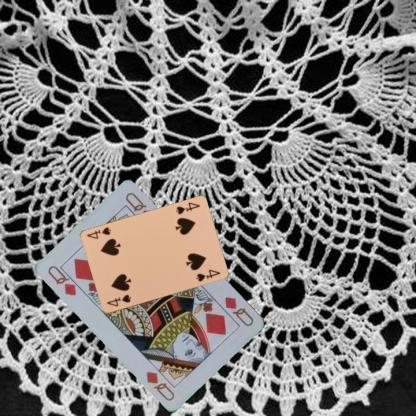4s: (104, 292, 132, 308), (173, 200, 201, 216)
Qd: (45, 262, 86, 297), (222, 293, 256, 328)
